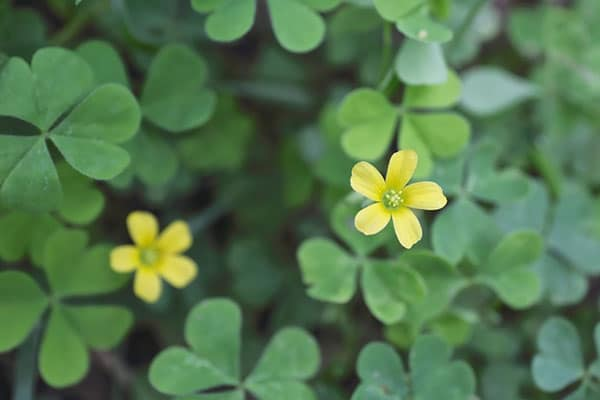oxalis: (21, 32, 564, 400)
